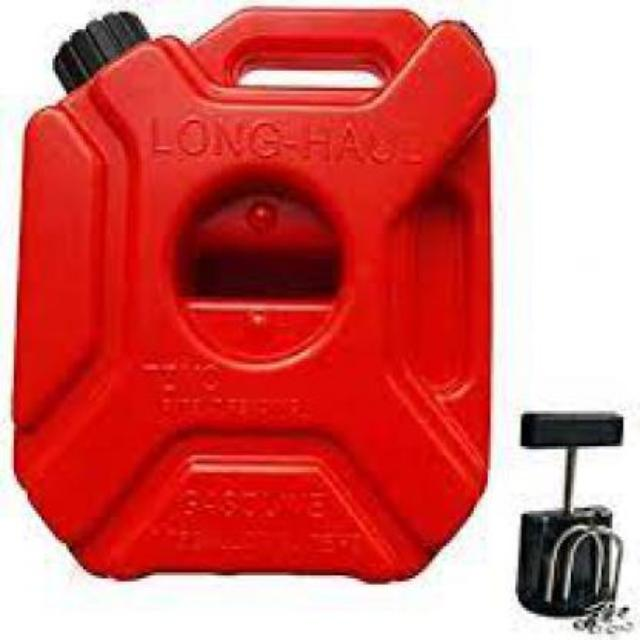chemical_plastic_gallon: (13, 6, 505, 606)
